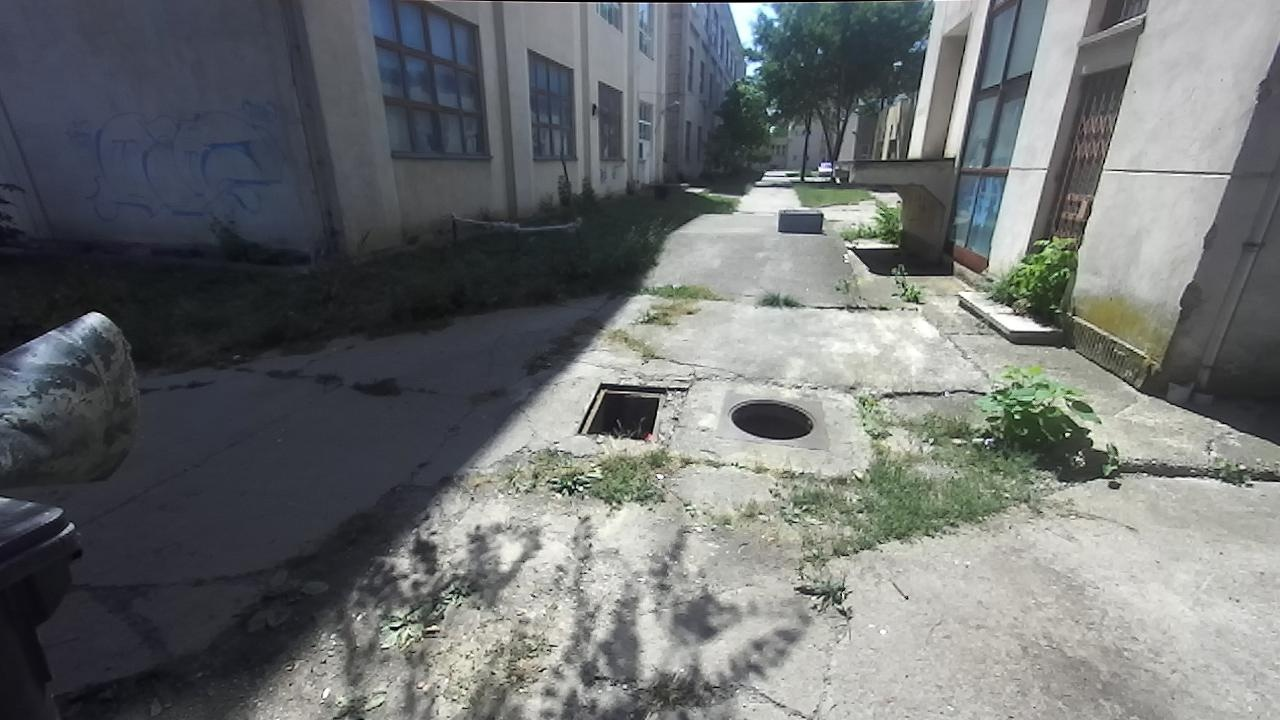drain: (569, 378, 670, 444), (720, 395, 817, 439)
